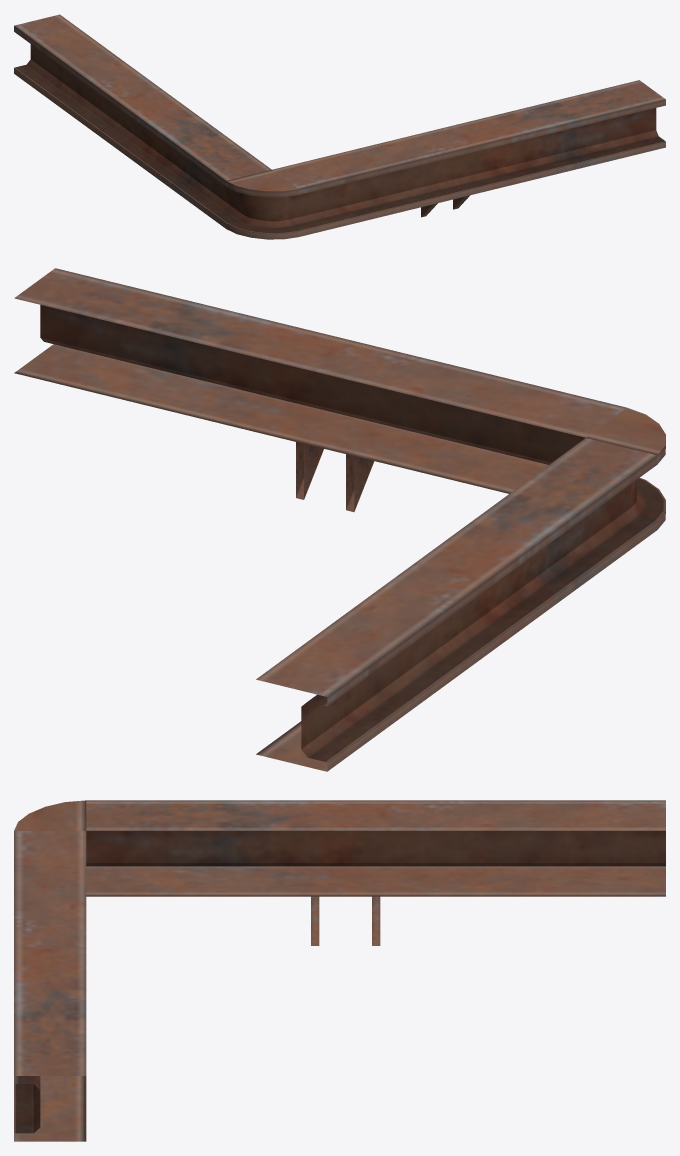
The model's file is pplant_welder_convex_short.dae.
3 renders of one model, top to bottom at view 1: azimuth 30°, elevation 25°; view 2: azimuth 150°, elevation 25°; view 3: azimuth 270°, elevation 25°, orthographic. The views are drawn at different scales.
Parts seen in each view (by area): view 1: welder_ceiling_convex_short; view 2: welder_ceiling_convex_short; view 3: welder_ceiling_convex_short.
Part boxes in pixels (left/top/right/bottom): welder_ceiling_convex_short: left=14, top=14, right=665, bottom=239; welder_ceiling_convex_short: left=14, top=268, right=665, bottom=771; welder_ceiling_convex_short: left=14, top=800, right=665, bottom=1141.
Bounding box in the file's own units: 2.25 × 0.4375 × 2.25.
